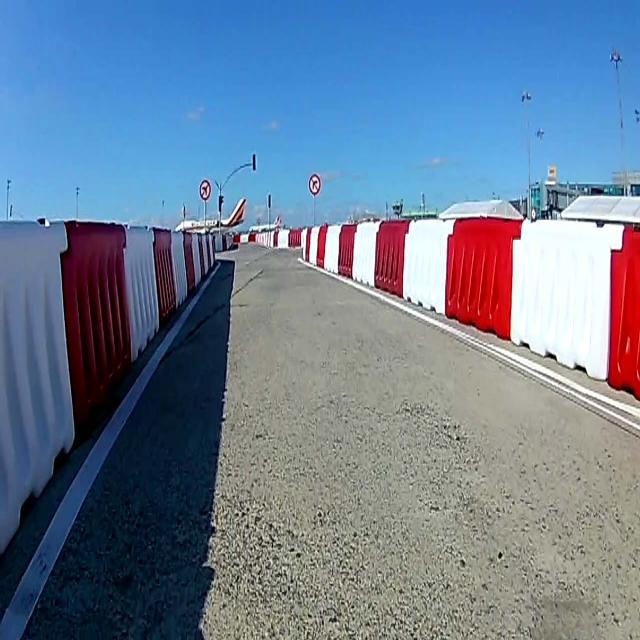sagadonulmez: (308, 175, 320, 195)
soladonulmez: (199, 180, 211, 200)
